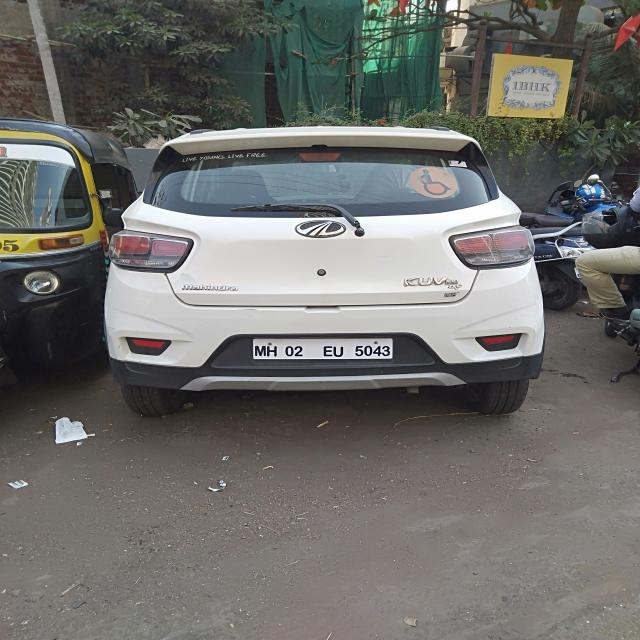Number-Plate: (252, 337, 390, 362)
